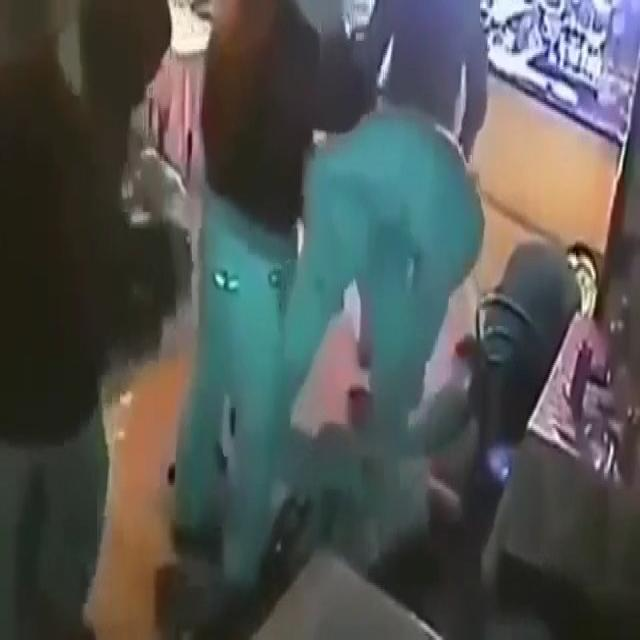fight: (189, 4, 519, 604)
